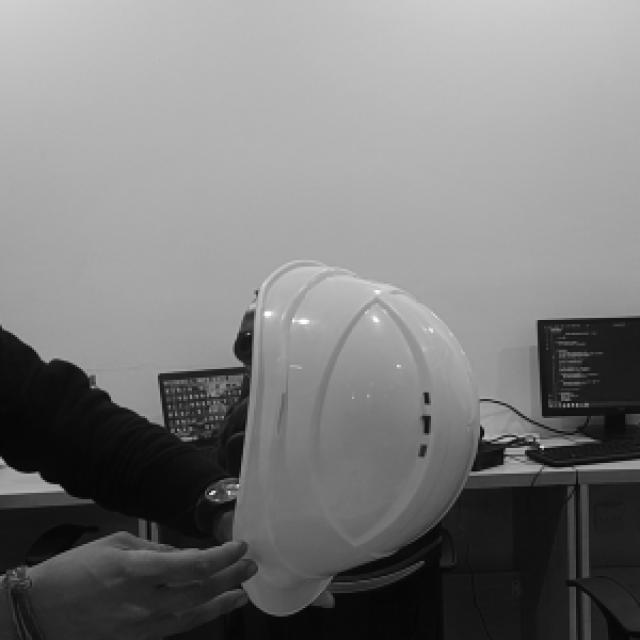safety_helmet: (231, 261, 477, 618)
